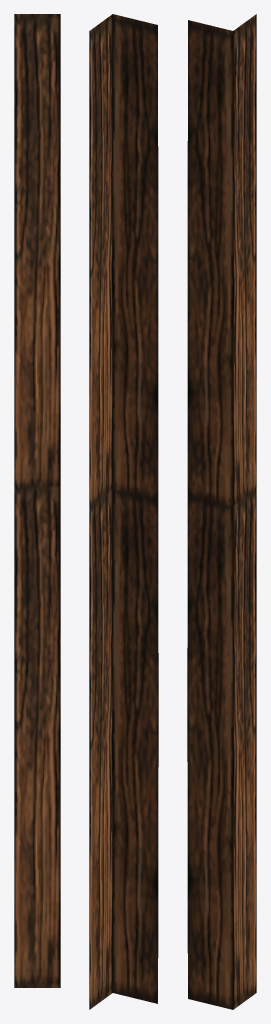
Rendered from LAKETOWN_WAREHOUSE2_PS_WH2_PUBBEAM7747.fbx.
3 views of the same model, side by side, from view 1: azimuth 90°, elevation 25°; view 2: azimuth 150°, elevation 25°; view 3: azimuth 330°, elevation 25° (orthographic).
Visible parts, largest first — view 1: LAKETOWN_WAREHOUSE2_PS_WH2_PUBBEAM7747; view 2: LAKETOWN_WAREHOUSE2_PS_WH2_PUBBEAM7747; view 3: LAKETOWN_WAREHOUSE2_PS_WH2_PUBBEAM7747.
Boxes of the visible parts, <box> form: LAKETOWN_WAREHOUSE2_PS_WH2_PUBBEAM7747: <box>14,14,60,987</box>; LAKETOWN_WAREHOUSE2_PS_WH2_PUBBEAM7747: <box>89,14,158,1009</box>; LAKETOWN_WAREHOUSE2_PS_WH2_PUBBEAM7747: <box>187,14,256,1009</box>.
Size of the model in its own units: 1971 by 40226 by 1734.
1 material, 1 textured.
